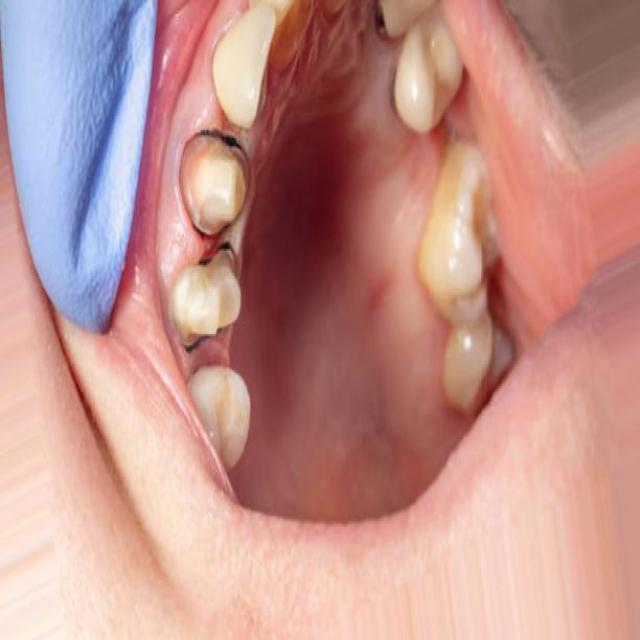caries: (172, 234, 258, 358), (179, 131, 257, 236), (359, 0, 407, 42)
